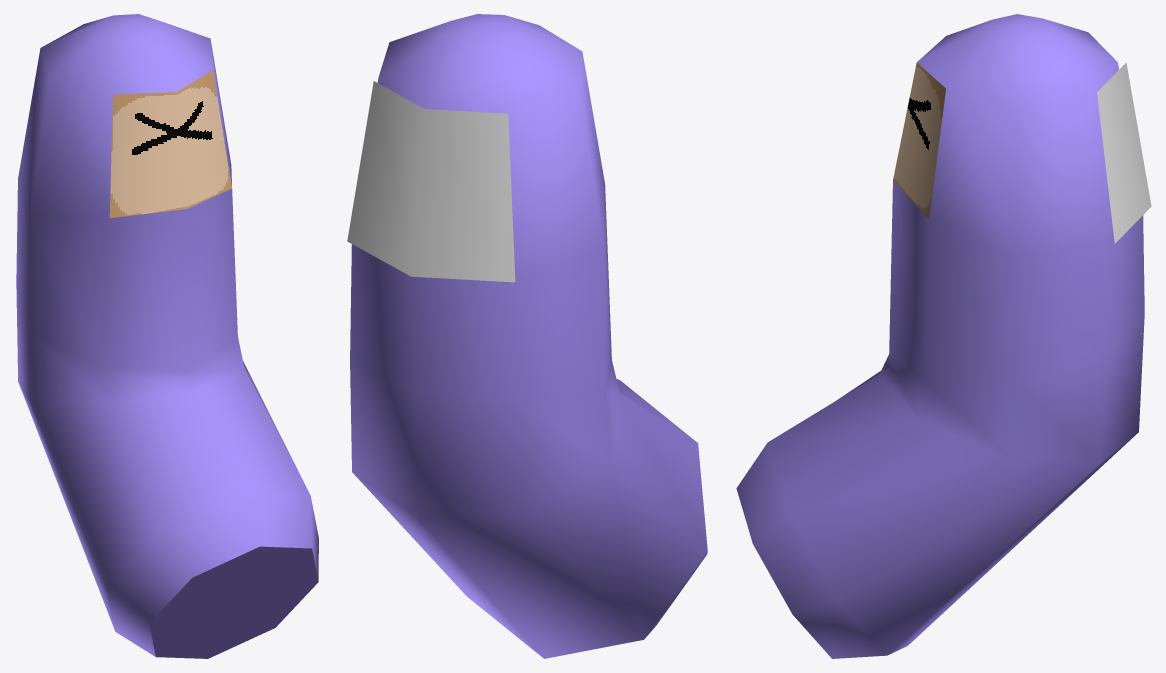
The model's file is OTA_D_09.glb.
3 views of the same model, side by side, from view 1: azimuth 30°, elevation 25°; view 2: azimuth 150°, elevation 25°; view 3: azimuth 270°, elevation 25° (orthographic). The views are drawn at different scales.
Parts seen in each view (by area): view 1: FRAME_ROOT; view 2: FRAME_ROOT; view 3: FRAME_ROOT.
Boxes of the visible parts, <box> form: FRAME_ROOT: <box>16,14,318,658</box>; FRAME_ROOT: <box>347,14,707,658</box>; FRAME_ROOT: <box>736,14,1151,658</box>.
Size of the model in its own units: 1.28 by 3.35 by 2.01.
Materials: 3 (3 with a texture image).
